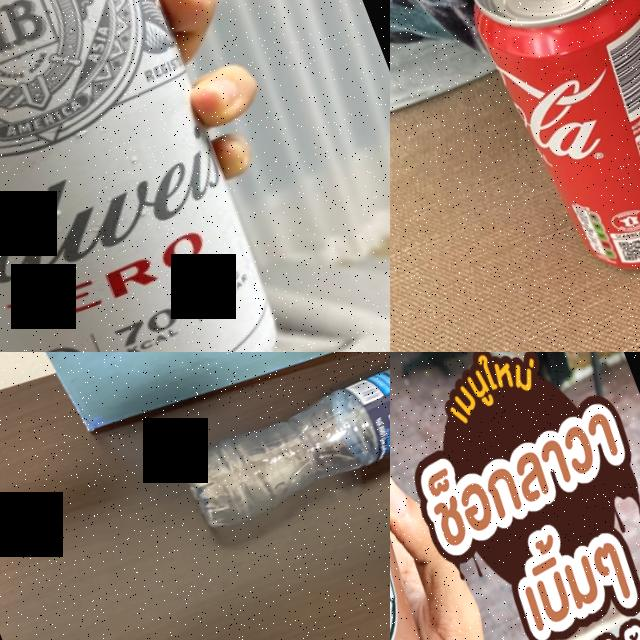bottle: (163, 352, 390, 557)
can: (0, 0, 315, 352), (442, 0, 640, 300)
cup: (390, 352, 493, 640)
